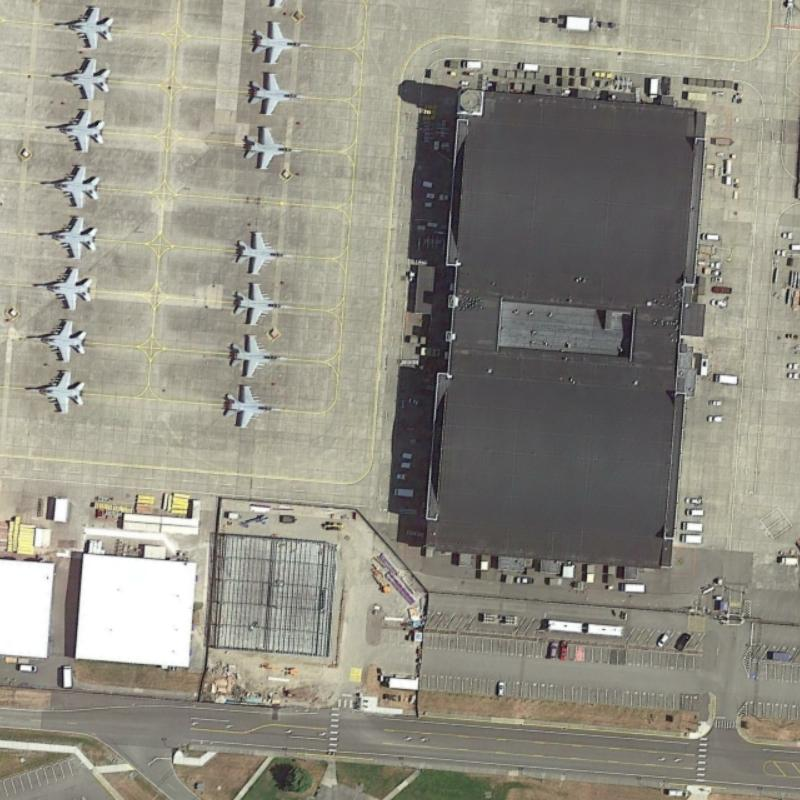A16: (24, 317, 89, 365), (245, 69, 309, 117), (248, 19, 313, 66), (36, 163, 102, 209), (30, 264, 94, 311), (21, 368, 85, 415), (241, 124, 302, 172), (231, 228, 293, 275), (226, 332, 288, 379), (221, 382, 283, 429), (48, 55, 112, 100), (34, 214, 96, 260), (51, 5, 114, 50), (42, 107, 105, 152), (232, 280, 291, 327)
